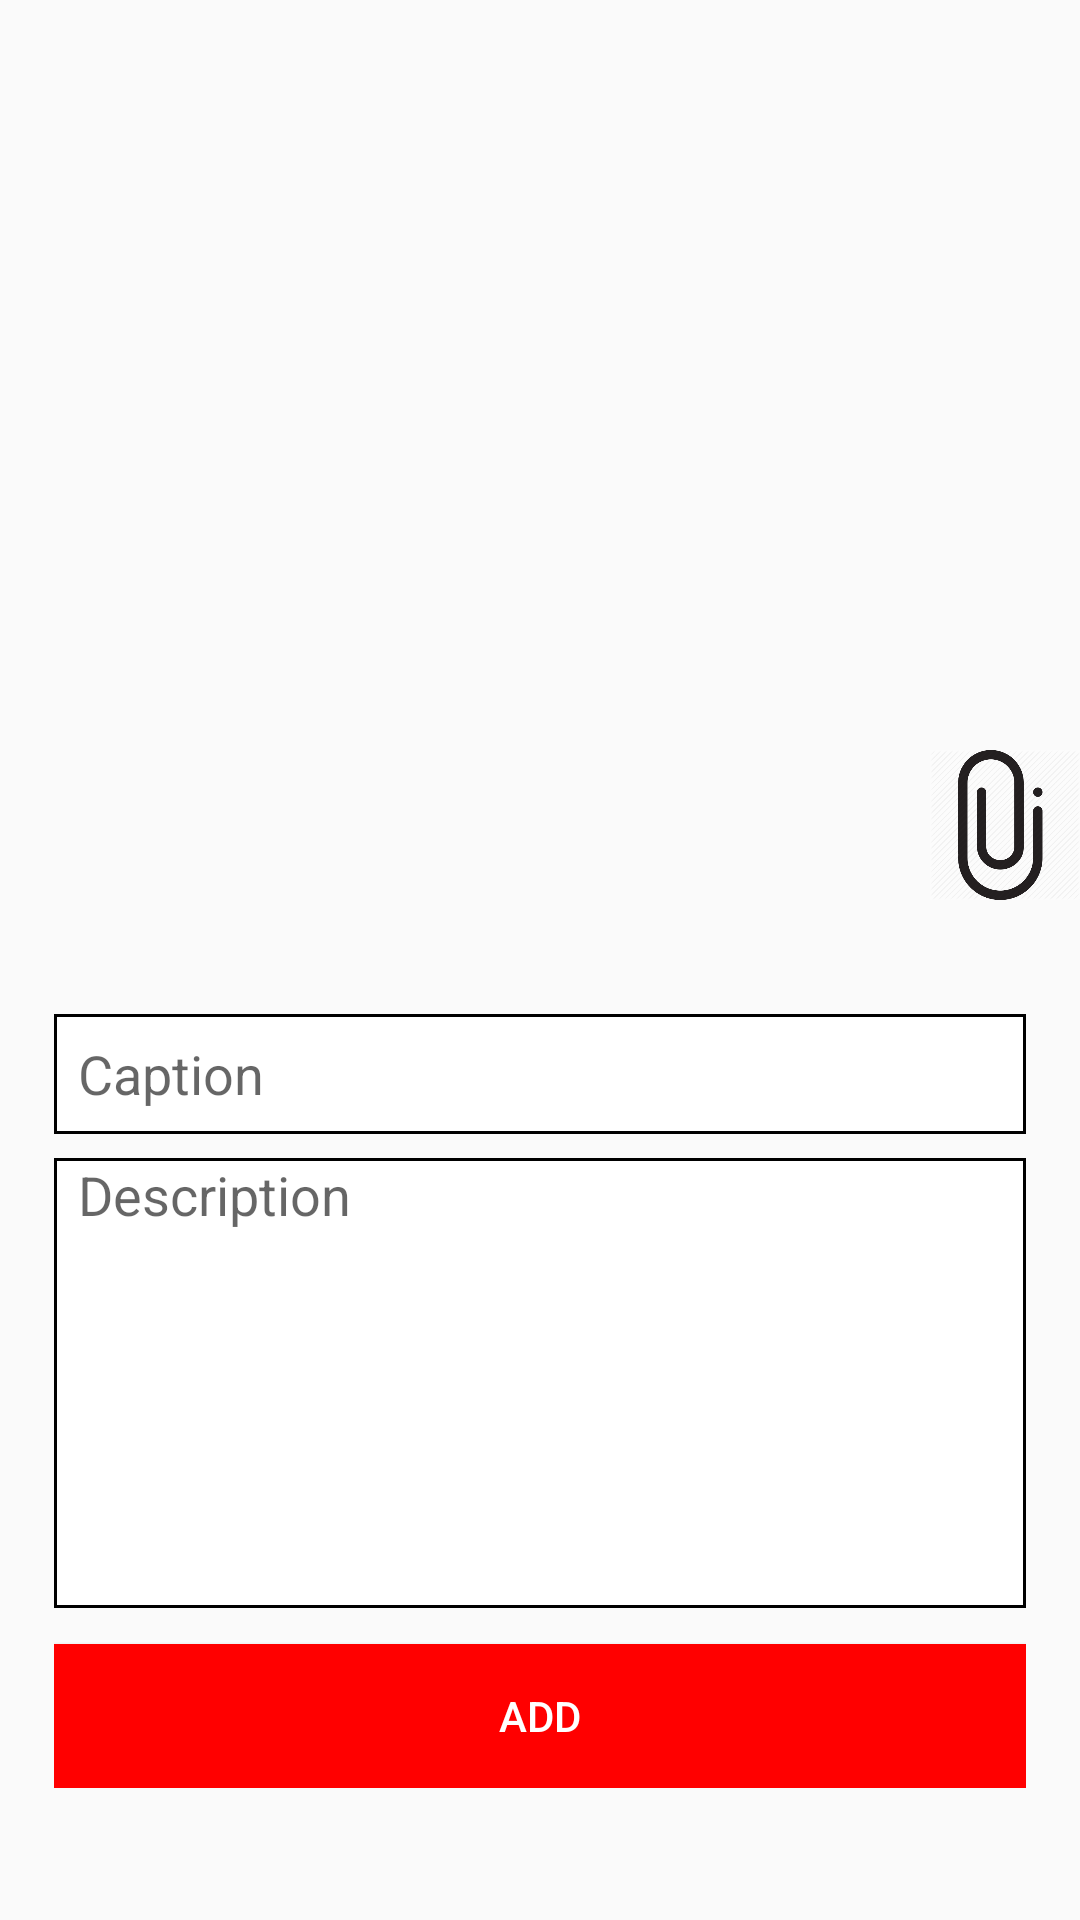

Icons on this 1080×1920 Android screen, each with the point to tap as [x,y]:
chooseimg: [1000,825]
